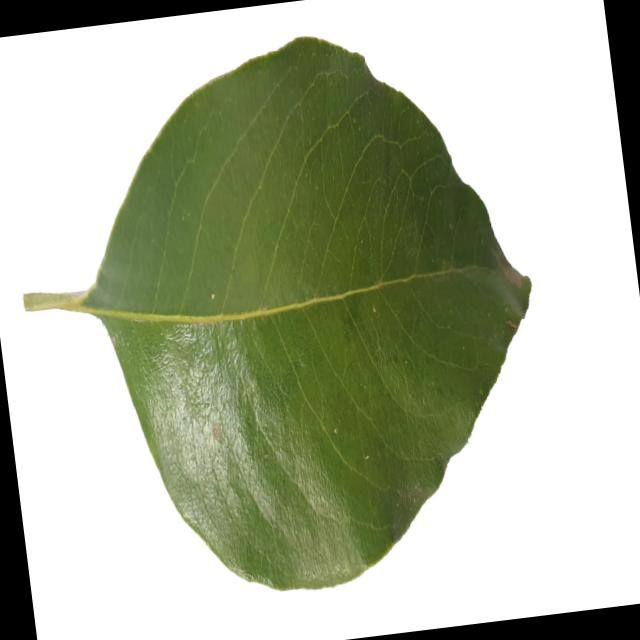Medicinal-Sandalwood: (0, 7, 565, 620)
